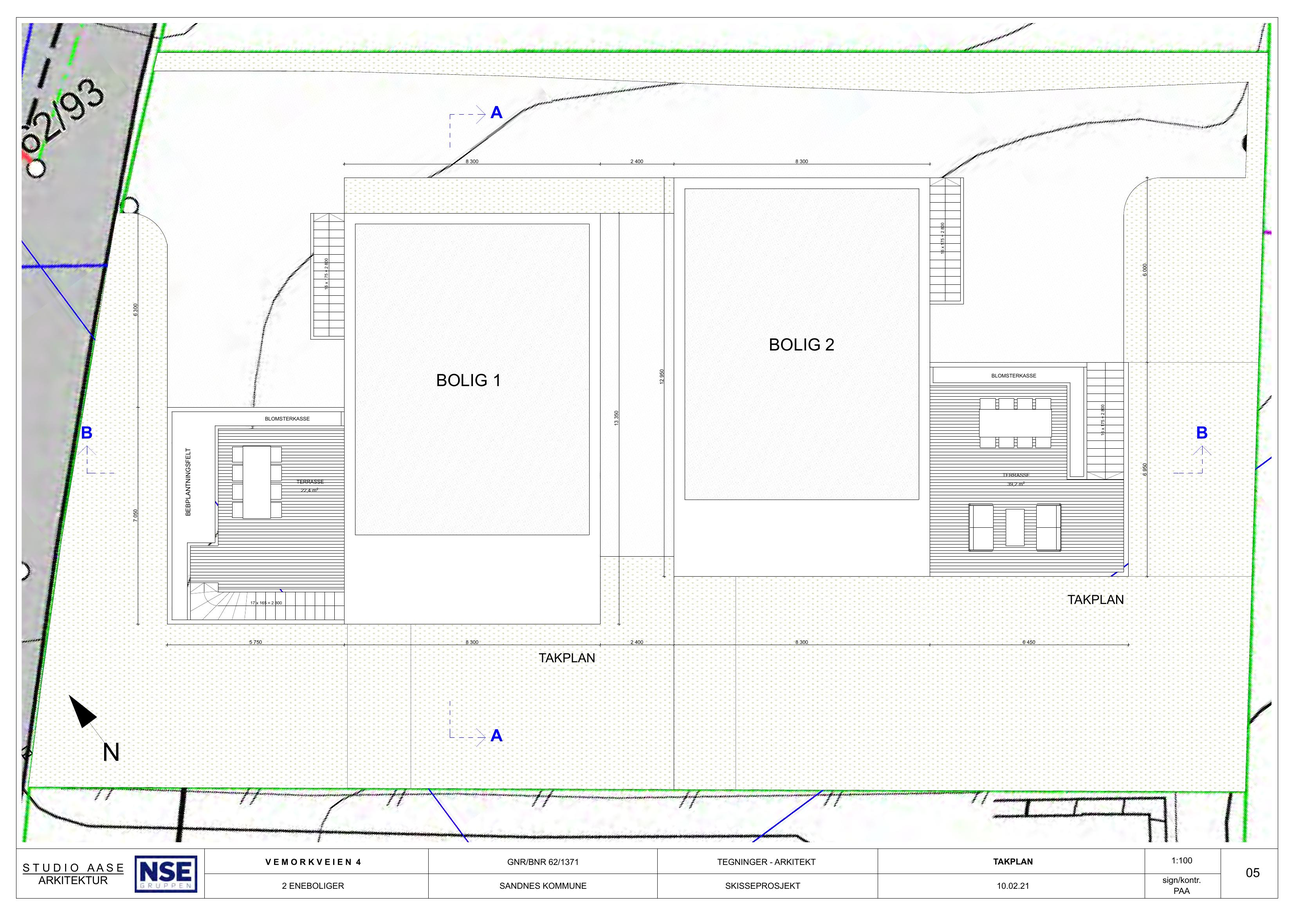plantegning: (928, 360, 1130, 577), (164, 408, 350, 626)
